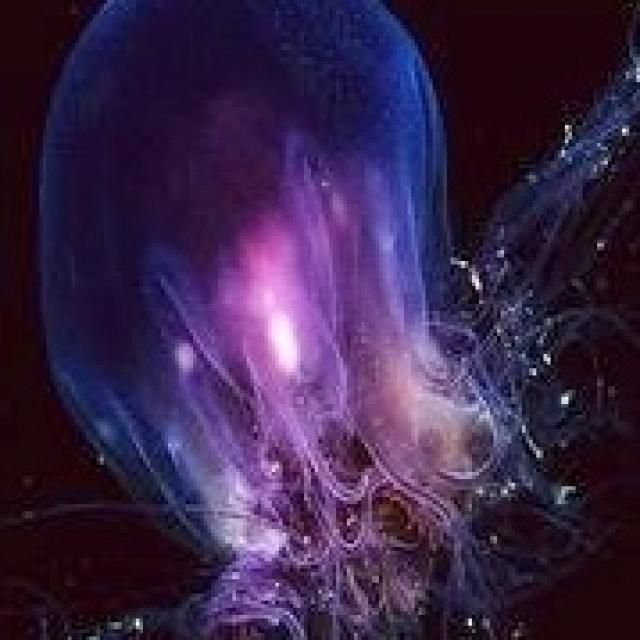Jellyfish: (29, 0, 636, 637)
